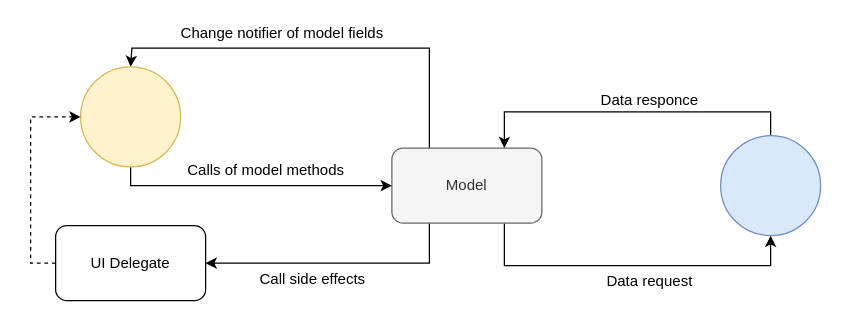
Some shapes in this 843 by 323 pixel diagram are drawn without their labels. Here are the shapes that lost their labels. From the top down, the box of each, then its label:
(79, 66, 181, 167): UI
(719, 134, 821, 236): Data
